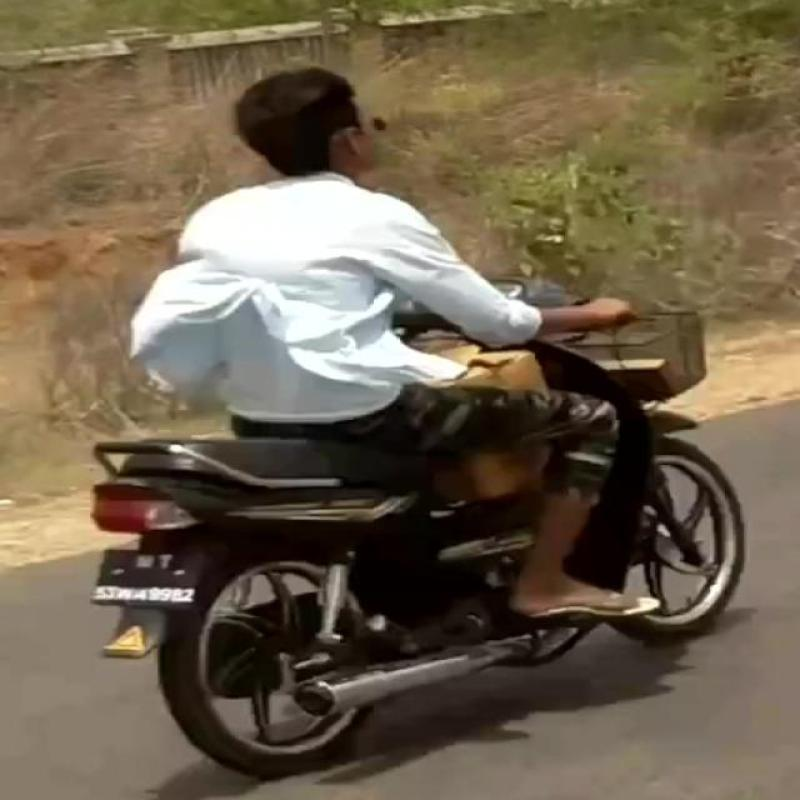nohelmet: (203, 58, 415, 208)
